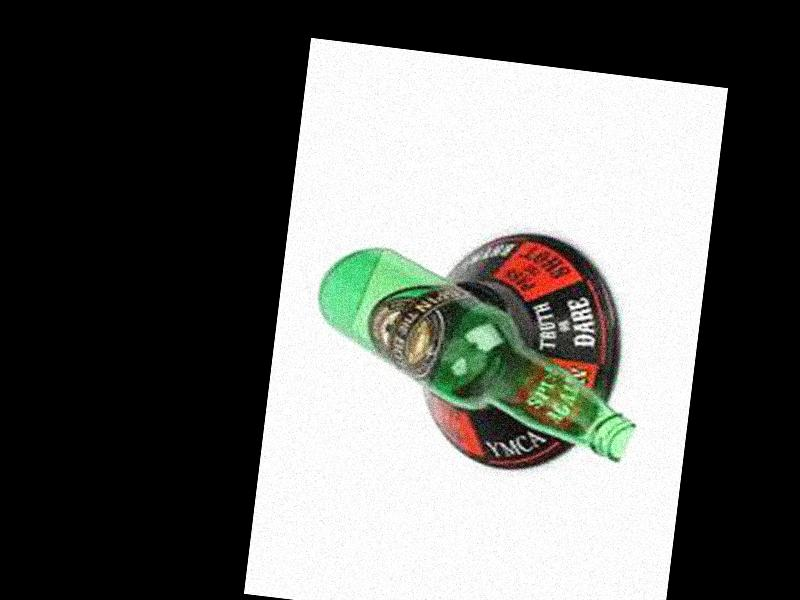Beer: (304, 238, 654, 461)
